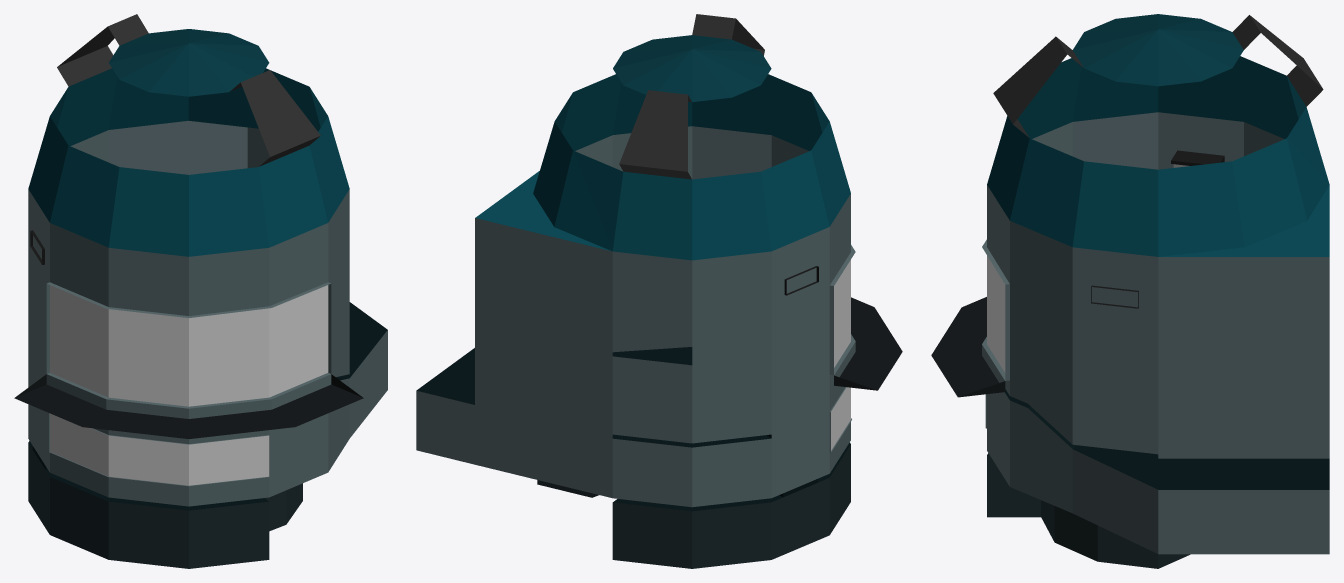
The model's file is Map.fbx.
3 views of the same model, side by side, from view 1: azimuth 30°, elevation 25°; view 2: azimuth 150°, elevation 25°; view 3: azimuth 270°, elevation 25° (orthographic). The views are drawn at different scales.
Parts seen in each view (by area): view 1: Map, Glass; view 2: Map, Glass; view 3: Map, Glass.
Part boxes in pixels (x1,y1,x2,y2): Map: [14, 14, 387, 568]; Glass: [50, 285, 328, 485]; Map: [416, 14, 902, 568]; Glass: [831, 260, 850, 450]; Map: [931, 14, 1329, 568]; Glass: [987, 255, 1005, 372].
Bounding box in the file's own units: 1913 × 2200 × 1629.
